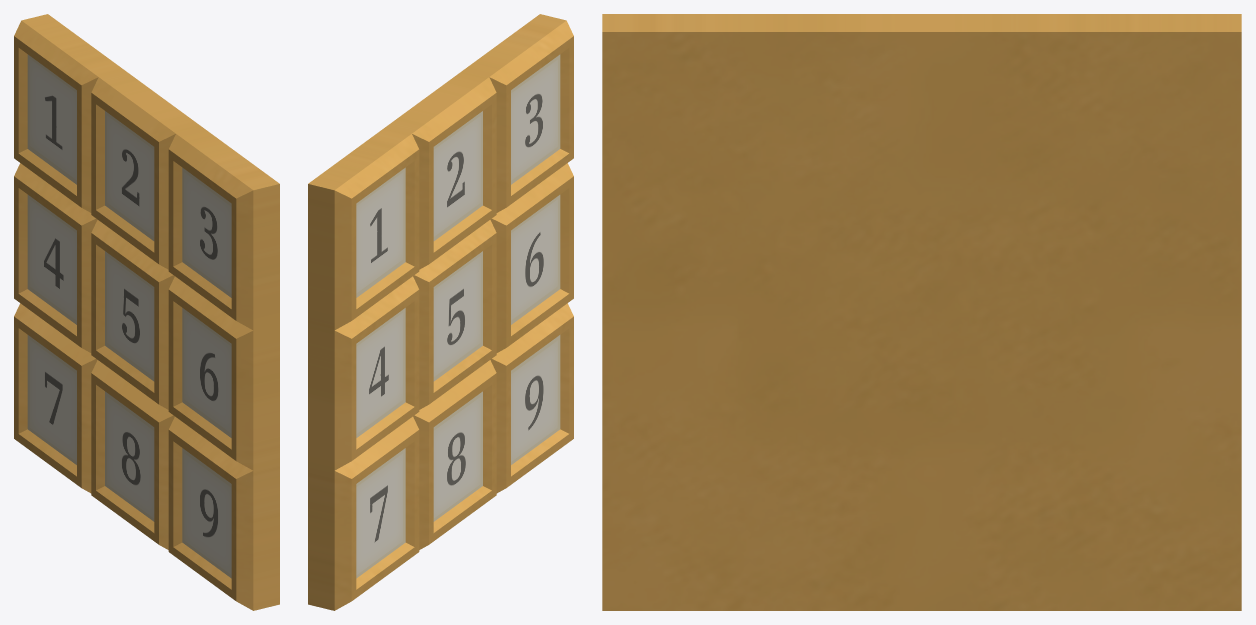
The model's file is Numpad.fbx.
3 views of the same model, side by side, from view 1: azimuth 30°, elevation 25°; view 2: azimuth 150°, elevation 25°; view 3: azimuth 270°, elevation 25° (orthographic). The views are drawn at different scales.
Visible parts, largest first — view 1: Side -X.003, Side -X.009, Side -X.006, Side -X.002, Side -X.001, Side -X.004, Side -X.007, Side -X.005, Side -X.008; view 2: Side -X.001, Side -X.007, Side -X.004, Side -X.002, Side -X.003, Side -X.006, Side -X.009, Side -X.005, Side -X.008; view 3: Side -X.001, Side -X.002, Side -X.003, Side -X.004, Side -X.005, Side -X.006, Side -X.007, Side -X.008, Side -X.009.
Part boxes in pixels (x1,y1,x2,y2): Side -X.003: (168, 127, 279, 330); Side -X.009: (168, 416, 279, 610); Side -X.006: (168, 276, 279, 470); Side -X.002: (91, 70, 202, 269); Side -X.001: (14, 14, 124, 212); Side -X.004: (14, 163, 97, 352); Side -X.007: (14, 303, 97, 493); Side -X.005: (91, 220, 174, 409); Side -X.008: (91, 360, 174, 549); Side -X.001: (308, 127, 419, 330); Side -X.007: (308, 416, 419, 610); Side -X.004: (308, 276, 419, 470); Side -X.002: (385, 70, 496, 269); Side -X.003: (463, 14, 573, 212); Side -X.006: (490, 163, 573, 352); Side -X.009: (490, 303, 573, 493); Side -X.005: (413, 220, 496, 409); Side -X.008: (413, 360, 496, 549); Side -X.001: (1028, 14, 1241, 224); Side -X.002: (815, 14, 1028, 224); Side -X.003: (602, 14, 815, 224); Side -X.004: (1028, 225, 1241, 417); Side -X.005: (815, 225, 1028, 417); Side -X.006: (602, 225, 815, 417); Side -X.007: (1028, 418, 1241, 610); Side -X.008: (815, 418, 1028, 610); Side -X.009: (602, 418, 815, 610).
Bounding box in the file's own units: 6.47 × 66.98 × 66.98.
2 materials, 2 textured.
